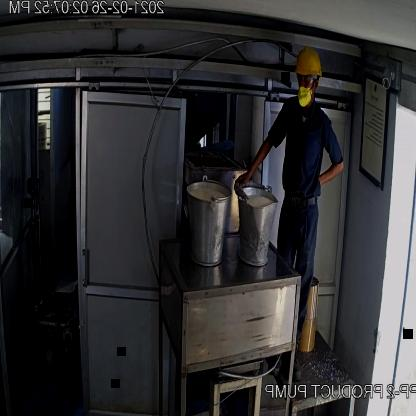helmet: (281, 47, 333, 79)
